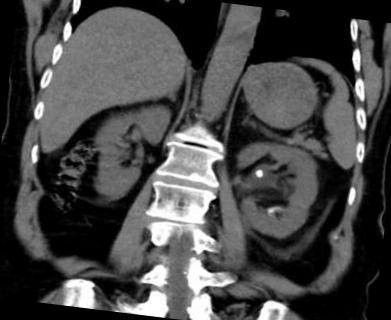Tas_Var: (264, 203, 288, 219), (255, 168, 266, 178)
